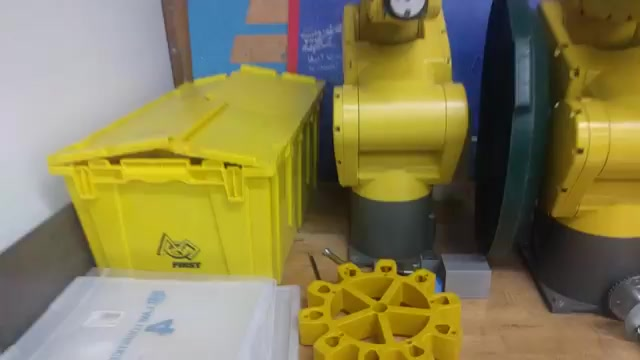gear: (295, 261, 461, 360)
